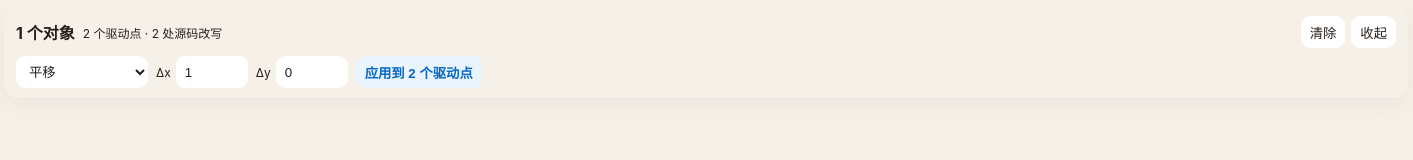
Scenario: TikzSelectionTransform › does not silently coerce invalid numeric input
Replace the text in the field named "水平位移" with "abc" at point(212, 72), box [176, 56, 248, 88]
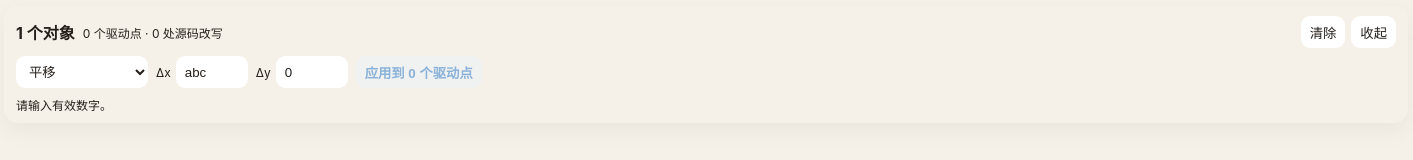
Expected: the text "请输入有效数字。" is shown, [16, 98, 112, 113]
Expected: the button "应用到 0 个驱动点" is disabled, [356, 56, 482, 88]
